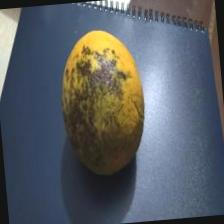Orange Rotten: (48, 14, 158, 185)
